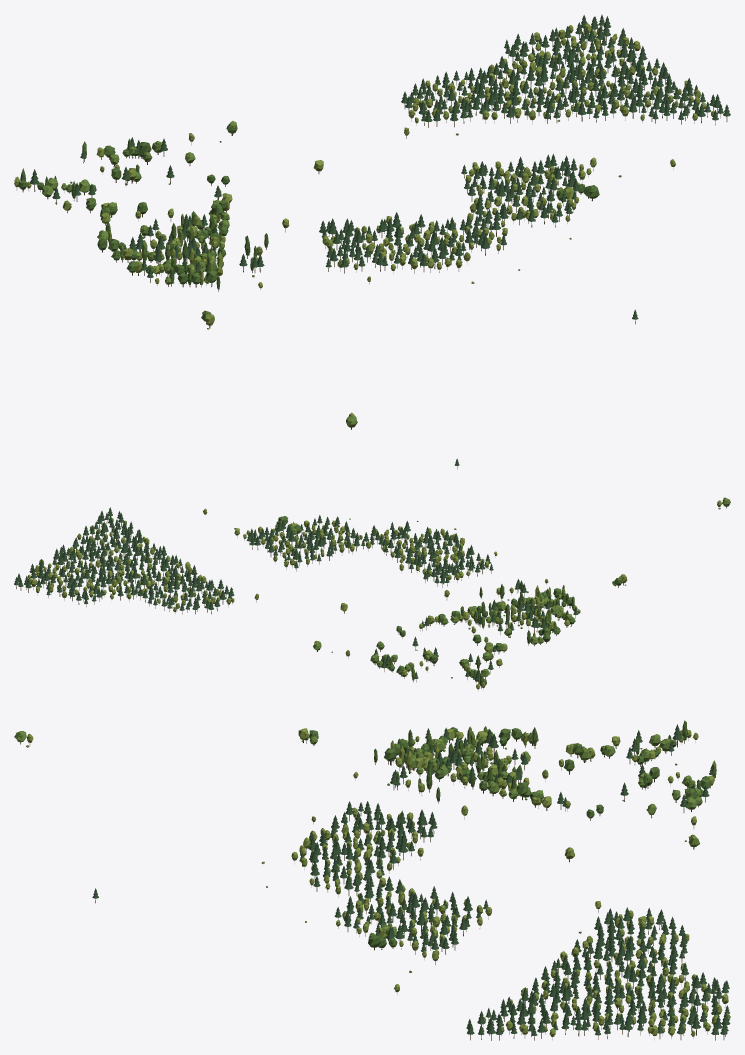
File: Natura_3_3.fbx
3 renders of one model, top to bottom at view 1: azimuth 30°, elevation 25°; view 2: azimuth 150°, elevation 25°; view 3: azimuth 270°, elevation 25°, orthographic. The views are drawn at different scales.
Size of the model in its own units: 476 by 18.47 by 475.
